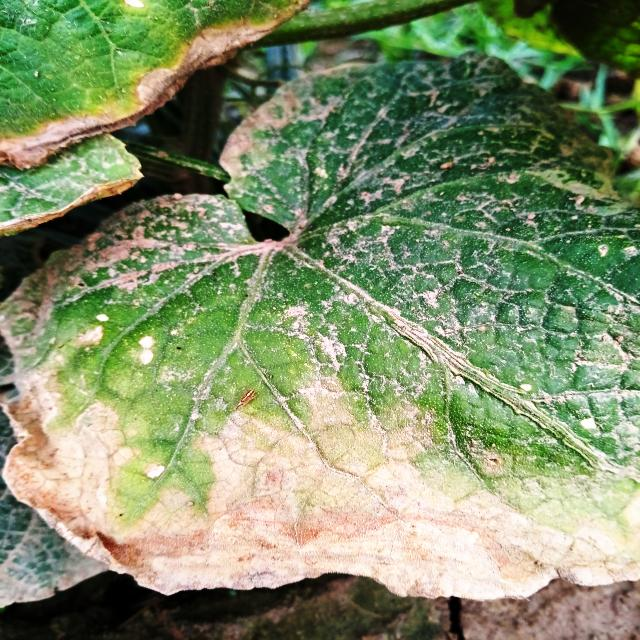Gummy-Stem-Blight: (2, 364, 640, 602)
